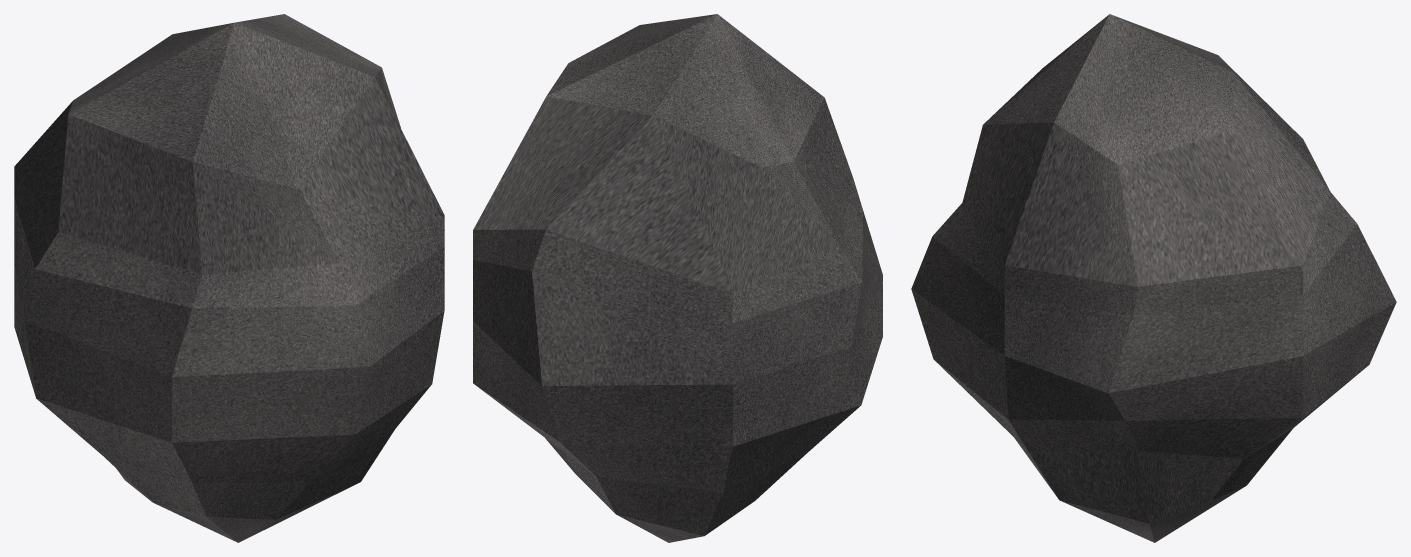
File: RockParticl3.fbx
3 views of the same model, side by side, from view 1: azimuth 30°, elevation 25°; view 2: azimuth 150°, elevation 25°; view 3: azimuth 270°, elevation 25° (orthographic). The views are drawn at different scales.
Visible parts, largest first — view 1: Cube; view 2: Cube; view 3: Cube.
Part boxes in pixels (left/top/right/bottom): Cube: left=14, top=14, right=444, bottom=542; Cube: left=473, top=14, right=882, bottom=542; Cube: left=911, top=14, right=1396, bottom=542.
Bounding box in the file's own units: 276 × 382 × 325.
